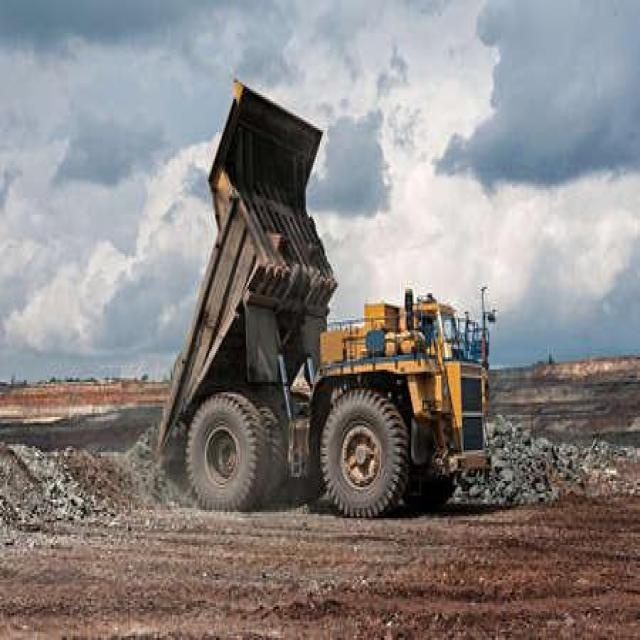machinery: (151, 73, 493, 527)
